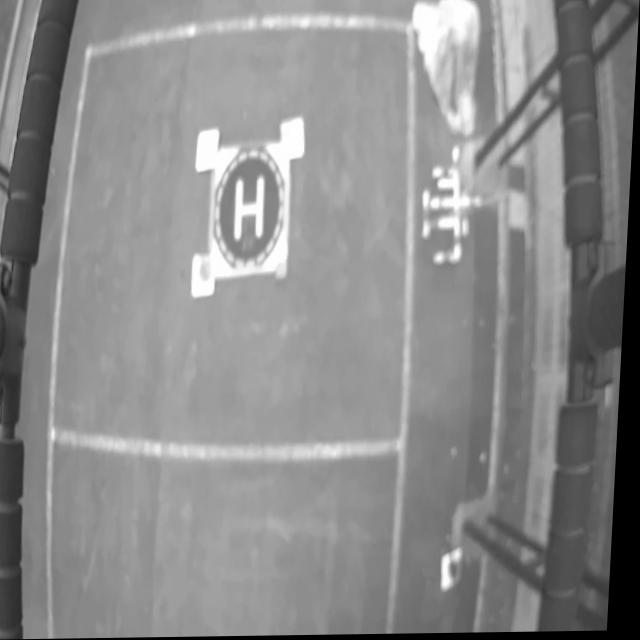Helipad: (236, 177, 268, 241)
